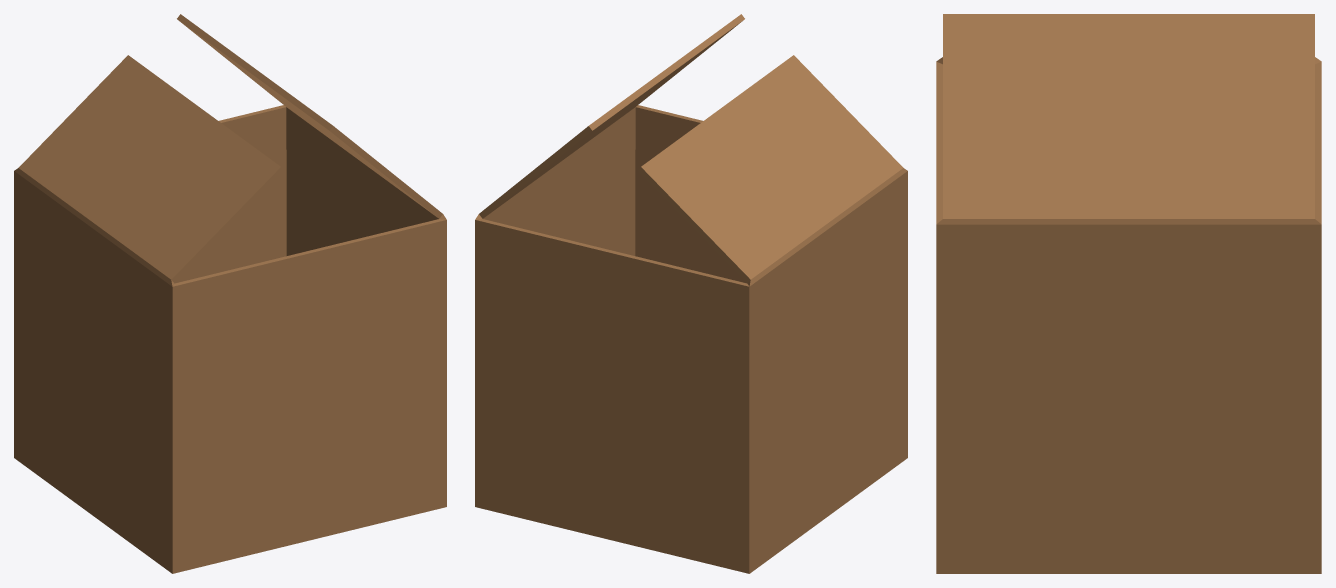
File: kotak.fbx
3 views of the same model, side by side, from view 1: azimuth 30°, elevation 25°; view 2: azimuth 150°, elevation 25°; view 3: azimuth 270°, elevation 25° (orthographic). The views are drawn at different scales.
Parts seen in each view (by area): view 1: cardboard_box; view 2: cardboard_box; view 3: cardboard_box.
Part boxes in pixels (box(x1,y1,x2,y2)): cardboard_box: box(14, 14, 446, 573); cardboard_box: box(475, 14, 907, 573); cardboard_box: box(936, 14, 1321, 573).
Bounding box in the file's own units: 50 × 70.71 × 50.
